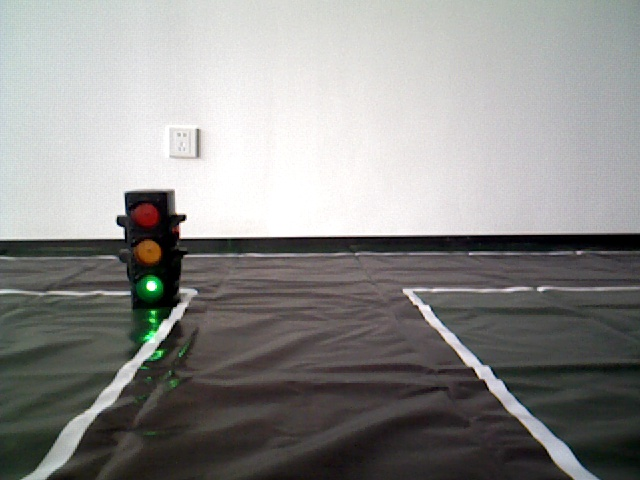green: (125, 194, 178, 297)
